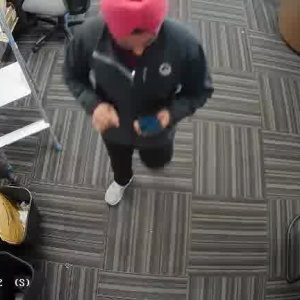person: (72, 0, 192, 204)
